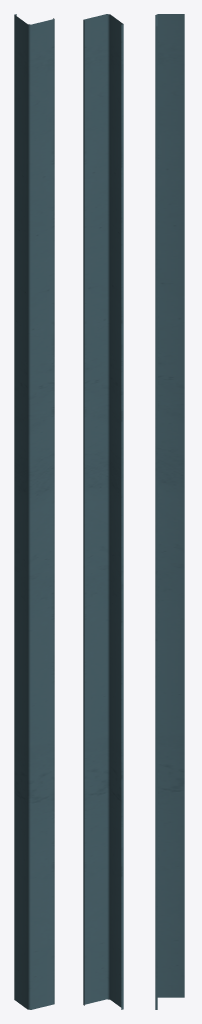
Rendered from HH_Hospital_Corner_Panel.fbx.
3 views of the same model, side by side, from view 1: azimuth 30°, elevation 25°; view 2: azimuth 210°, elevation 25°; view 3: azimuth 270°, elevation 25° (orthographic).
Parts seen in each view (by area): view 1: HH_Hospital_Corner_Panel; view 2: HH_Hospital_Corner_Panel; view 3: HH_Hospital_Corner_Panel.
Boxes of the visible parts, x1=… form: HH_Hospital_Corner_Panel: x1=14, y1=14, x2=54, y2=1009; HH_Hospital_Corner_Panel: x1=83, y1=14, x2=123, y2=1009; HH_Hospital_Corner_Panel: x1=155, y1=14, x2=184, y2=1009.
Bounding box in the file's own units: 10.86 × 400 × 10.69.
